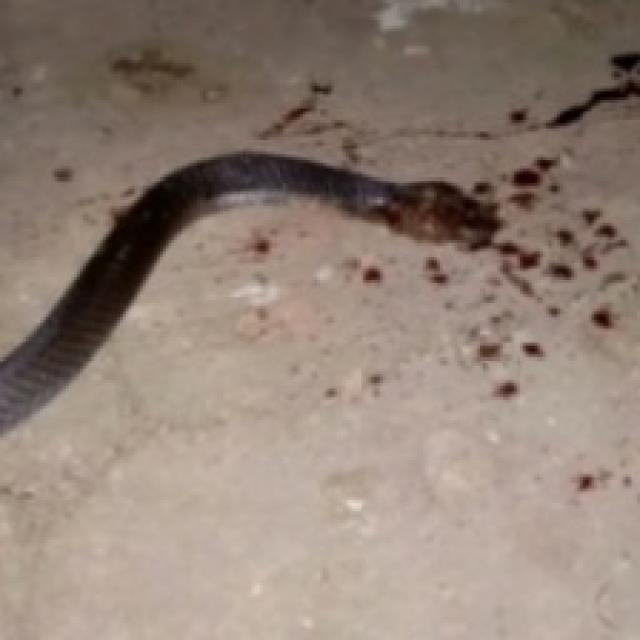king cobra: (0, 152, 499, 432)
